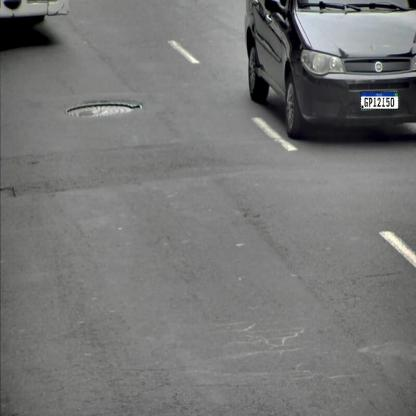PlacaM: (360, 92, 399, 110)
